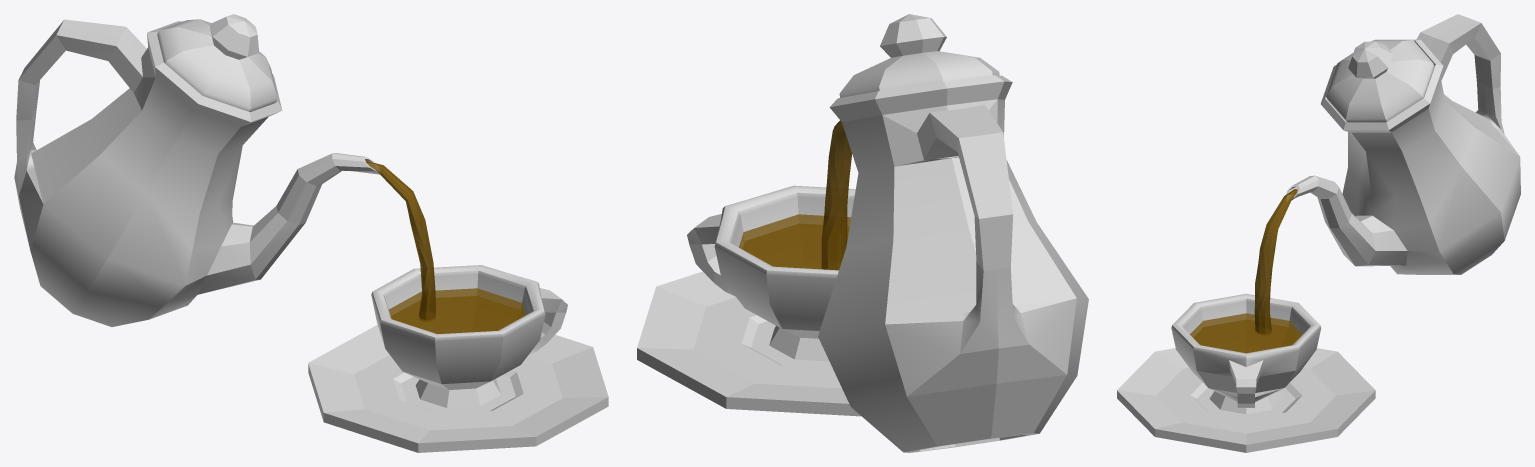
The model's file is teaset.fbx.
3 renders of one model, left to right at view 1: azimuth 30°, elevation 25°; view 2: azimuth 150°, elevation 25°; view 3: azimuth 270°, elevation 25°, orthographic. The views are drawn at different scales.
Parts seen in each view (by area): view 1: pSphere3; view 2: pSphere3; view 3: pSphere3.
Part boxes in pixels (bbox=[...]): pSphere3: bbox=[14, 14, 608, 452]; pSphere3: bbox=[637, 14, 1088, 452]; pSphere3: bbox=[1117, 14, 1520, 452].
Size of the model in its own units: 5.66 by 4.5 by 5.31.
